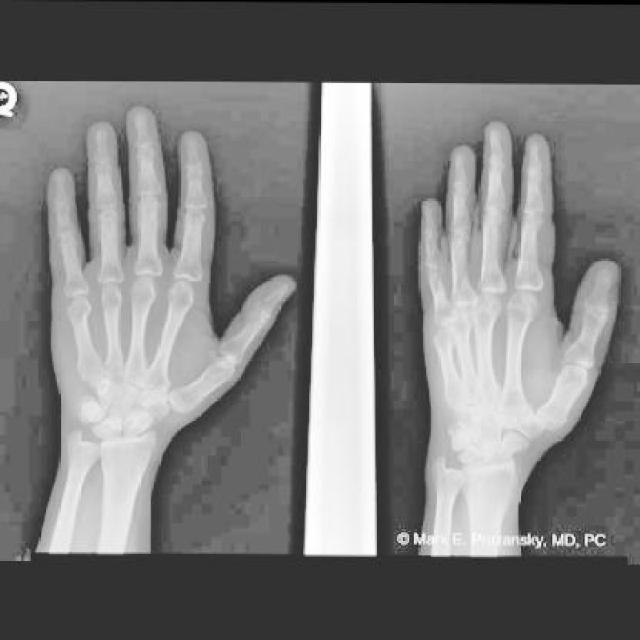Fracture: (431, 323, 459, 350), (66, 297, 91, 320)
